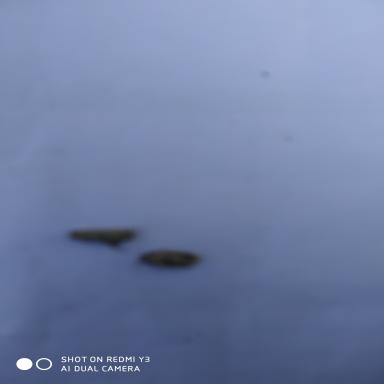pbw: (63, 225, 144, 256), (128, 245, 204, 273)
